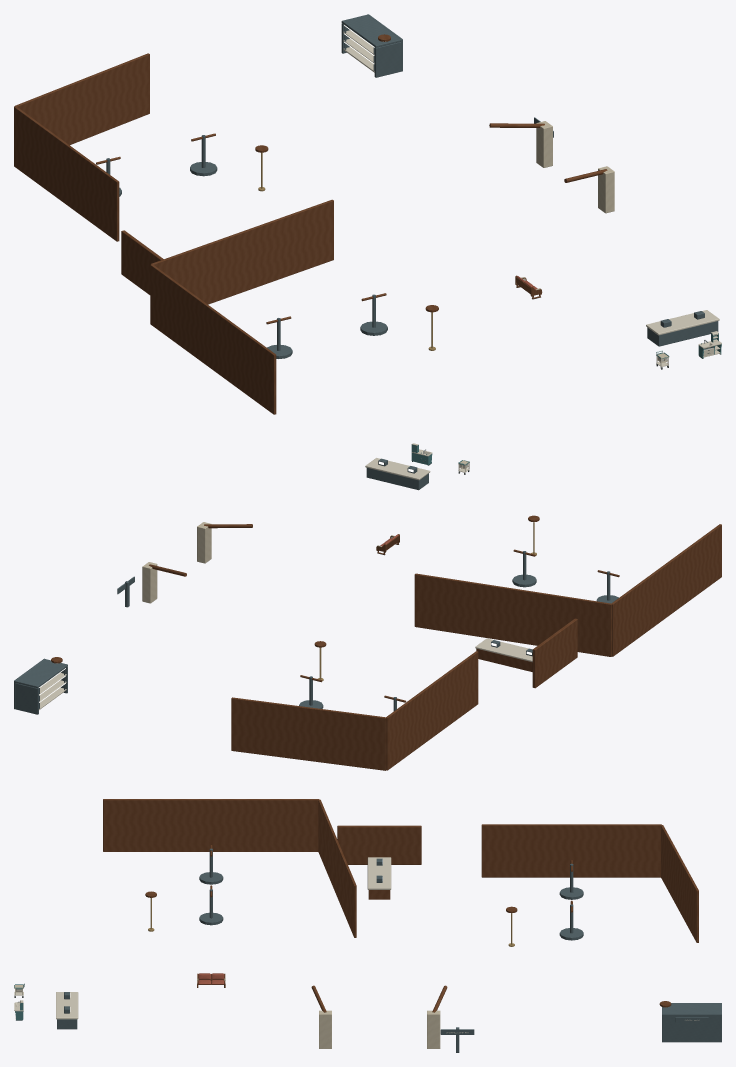
Rendered from SOL_D07_directory_05_source001.glb.
3 views of the same model, one above another, from view 1: azimuth 30°, elevation 25°; view 2: azimuth 150°, elevation 25°; view 3: azimuth 270°, elevation 25° (orthographic). The views are drawn at different scales.
Visible parts, largest first — view 1: C_demonstration_return1, C_demonstration_rear1, C_demonstration_return0, C_demonstration_rear0, C_review_edge, C_care_top, C_training_equipment_base, C_care_cheek_10.4, C_training_equipment_top, C_threshold_pier0, C_threshold_pier1; view 2: C_demonstration_return1, C_demonstration_return0, C_demonstration_rear1, C_demonstration_rear0, C_review_edge, C_care_top, C_training_equipment_base, C_care_cheek_5.6, C_training_review_top, C_training_equipment_top, C_threshold_pier0, C_training_review_base (+1 smaller); view 3: C_demonstration_rear1, C_demonstration_rear0, C_review_edge, C_demonstration_return1, C_demonstration_return0, C_care_back, C_training_review_top, C_care_top, C_training_equipment_top, C_threshold_pier0, C_threshold_pier1.
Part boxes in pixels (x1=…): C_demonstration_return1: x1=150, y1=199, x2=333, y2=304; C_demonstration_rear1: x1=150, y1=264, x2=276, y2=414; C_demonstration_return0: x1=14, y1=53, x2=149, y2=145; C_demonstration_rear0: x1=14, y1=106, x2=119, y2=241; C_review_edge: x1=121, y1=230, x2=163, y2=294; C_care_top: x1=341, y1=15, x2=401, y2=47; C_training_equipment_base: x1=647, y1=321, x2=718, y2=346; C_care_cheek_10.4: x1=374, y1=42, x2=400, y2=77; C_training_equipment_top: x1=646, y1=310, x2=719, y2=335; C_threshold_pier0: x1=536, y1=121, x2=552, y2=167; C_threshold_pier1: x1=598, y1=166, x2=614, y2=213; C_demonstration_return1: x1=414, y1=573, x2=611, y2=656; C_demonstration_return0: x1=231, y1=697, x2=386, y2=770; C_demonstration_rear1: x1=611, y1=524, x2=721, y2=656; C_demonstration_rear0: x1=386, y1=651, x2=478, y2=770; C_review_edge: x1=532, y1=618, x2=577, y2=688; C_care_top: x1=15, y1=659, x2=67, y2=688; C_training_equipment_base: x1=366, y1=467, x2=428, y2=490; C_care_cheek_5.6: x1=15, y1=683, x2=38, y2=714; C_training_review_top: x1=475, y1=638, x2=532, y2=662; C_training_equipment_top: x1=365, y1=458, x2=430, y2=480; C_threshold_pier0: x1=142, y1=562, x2=157, y2=603; C_training_review_base: x1=476, y1=648, x2=532, y2=671; C_demonstration_rear1: x1=103, y1=799, x2=319, y2=851; C_demonstration_rear0: x1=481, y1=824, x2=661, y2=877; C_review_edge: x1=337, y1=825, x2=421, y2=864; C_demonstration_return1: x1=318, y1=799, x2=356, y2=937; C_demonstration_return0: x1=661, y1=825, x2=698, y2=942; C_care_back: x1=662, y1=1013, x2=721, y2=1042; C_training_review_top: x1=367, y1=857, x2=391, y2=889; C_care_top: x1=662, y1=1003, x2=721, y2=1013; C_training_equipment_top: x1=56, y1=992, x2=78, y2=1019; C_threshold_pier0: x1=427, y1=1010, x2=440, y2=1048; C_threshold_pier1: x1=319, y1=1010, x2=331, y2=1048.
Bounding box in the file's own units: 39.77 × 4.8 × 58.92.
Materials: 25 (24 with a texture image).
